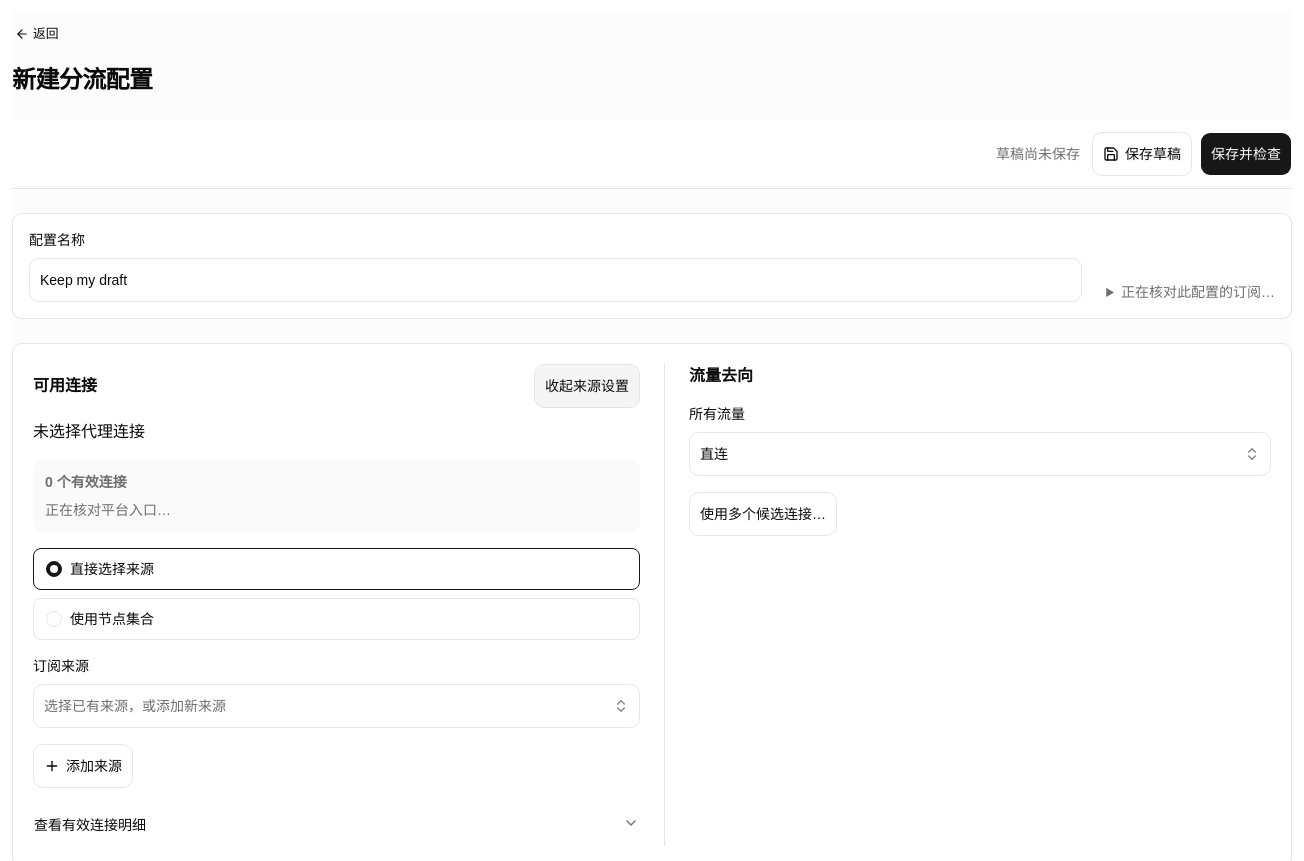
Test: keeps a failed save in the editor and never advances to publication
The width and height of the screenshot is (1304, 861).
Replace the text in the field labelled "配置名称" with "My unsaved choice" at x=556, y=280, box [29,258,1082,302]
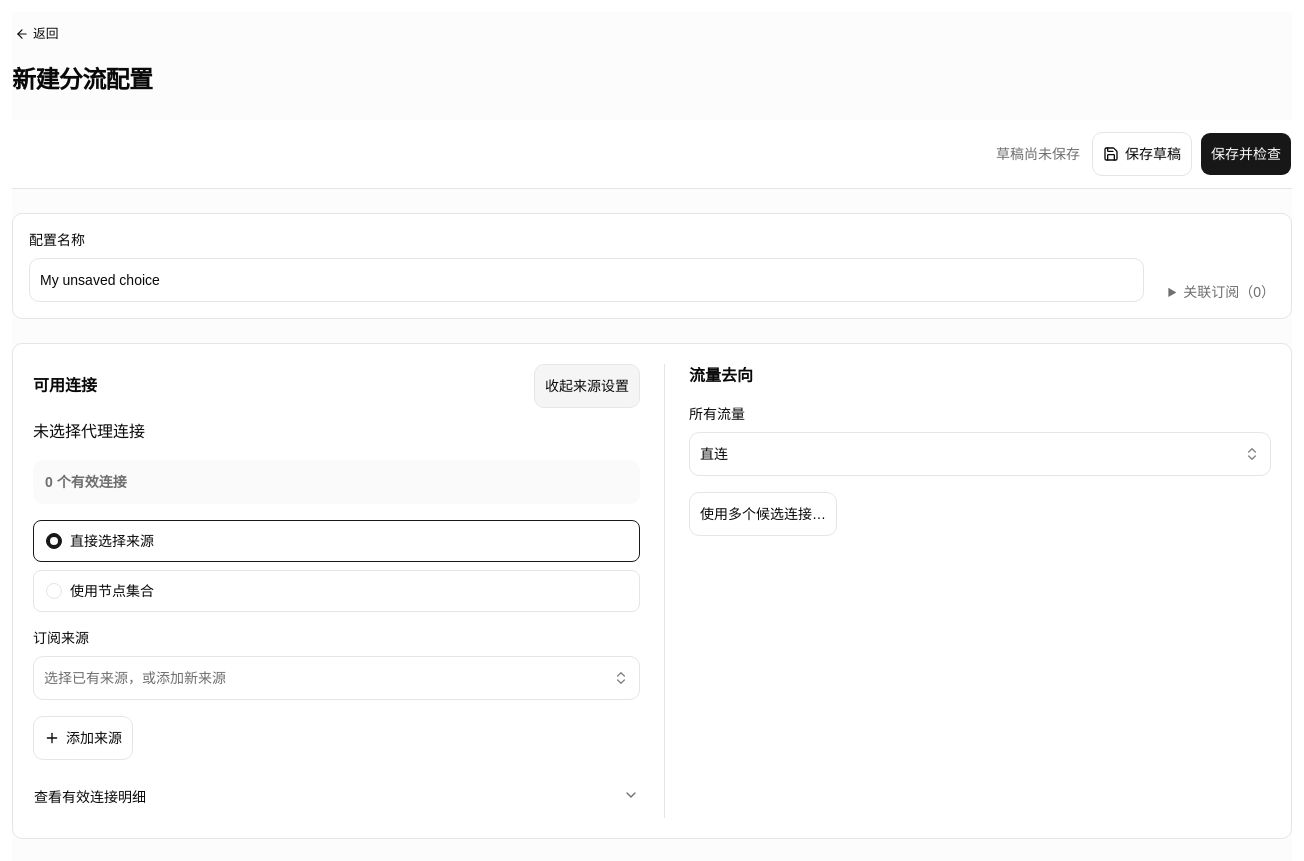
Click the button "保存并检查" at x=1246, y=154, box [1200,132,1292,176]
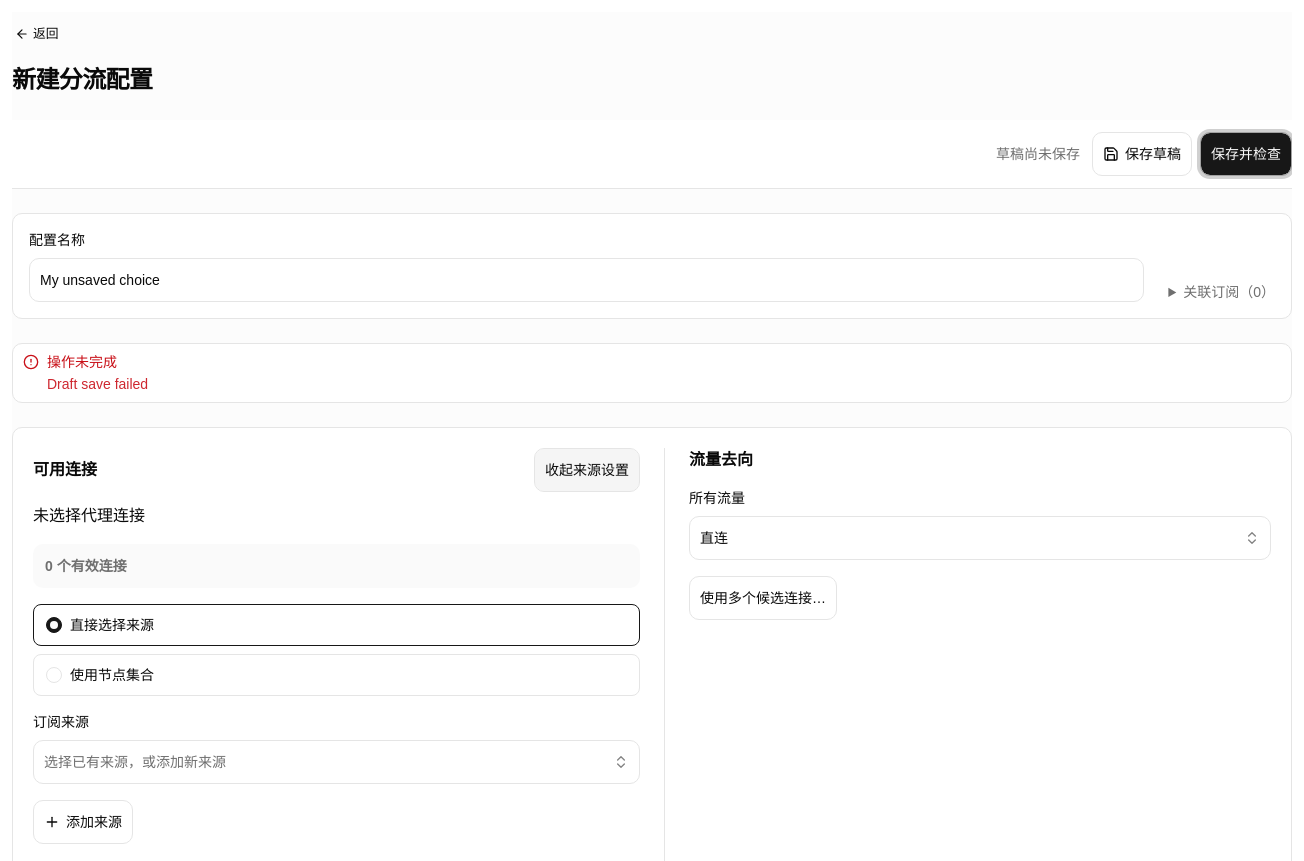
expect the text "Draft save failed" is shown: met, box [47,376,148,392]
